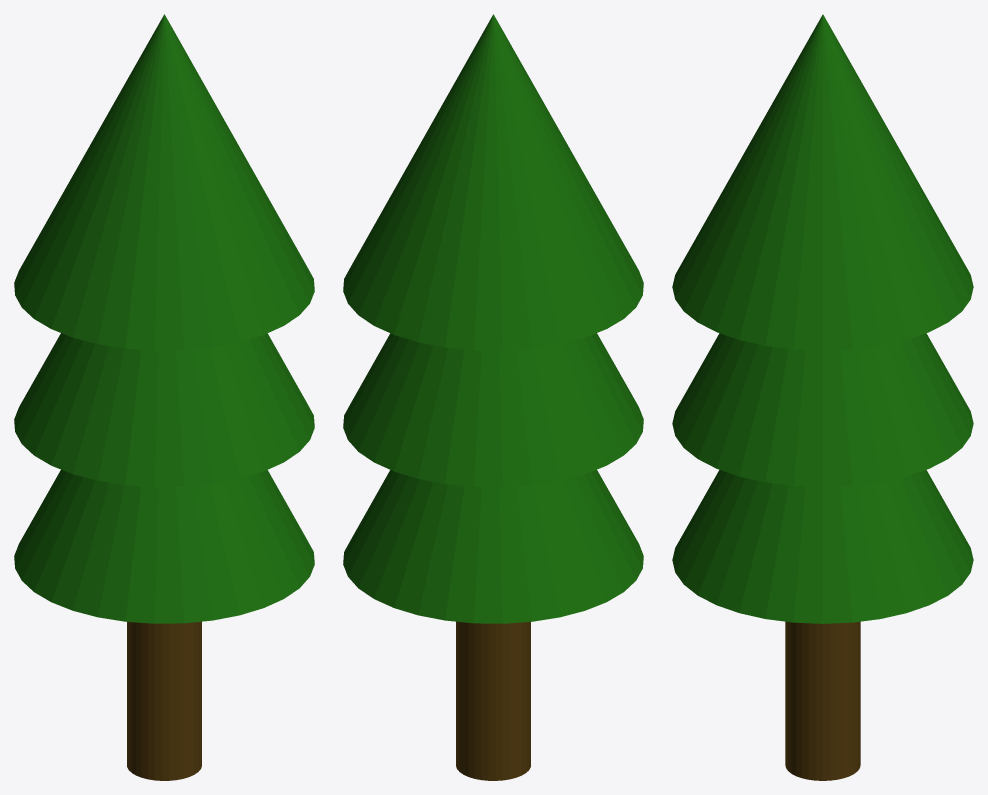
The model's file is Tree.fbx.
3 renders of one model, left to right at view 1: azimuth 30°, elevation 25°; view 2: azimuth 150°, elevation 25°; view 3: azimuth 270°, elevation 25°, orthographic.
Parts seen in each view (by area): view 1: Leaves, Trunk; view 2: Leaves, Trunk; view 3: Leaves, Trunk.
Part boxes in pixels (<box>): Leaves: <box>14,14,314,623</box>; Trunk: <box>127,621,201,780</box>; Leaves: <box>343,14,643,623</box>; Trunk: <box>456,621,530,780</box>; Leaves: <box>672,14,973,623</box>; Trunk: <box>785,621,860,780</box>.
Size of the model in its own units: 400 by 1100 by 400.
